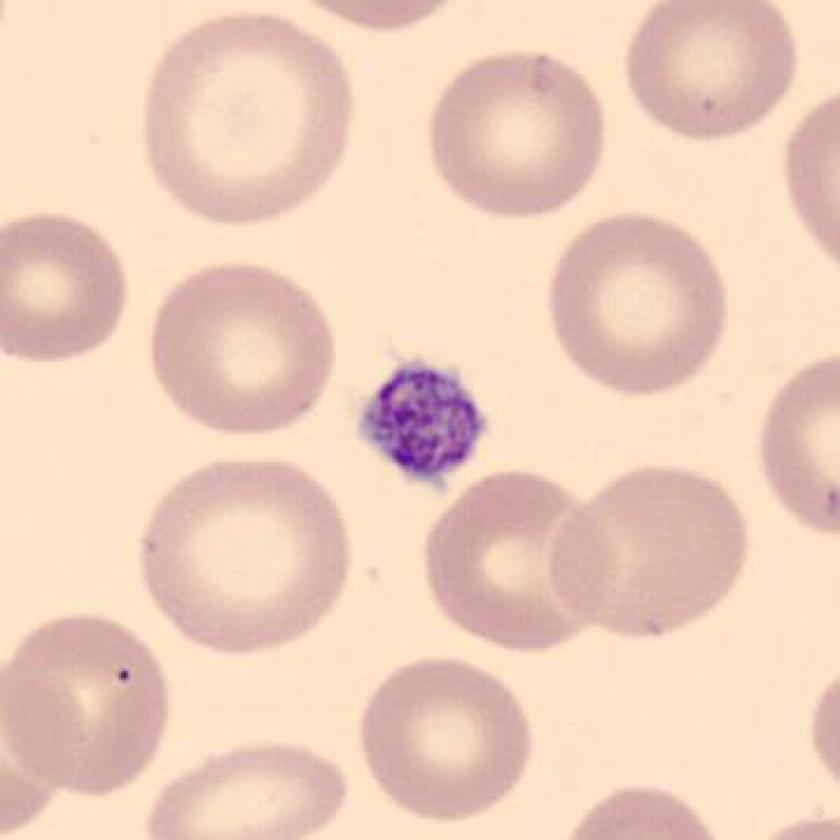platelets: (361, 358, 494, 490)
